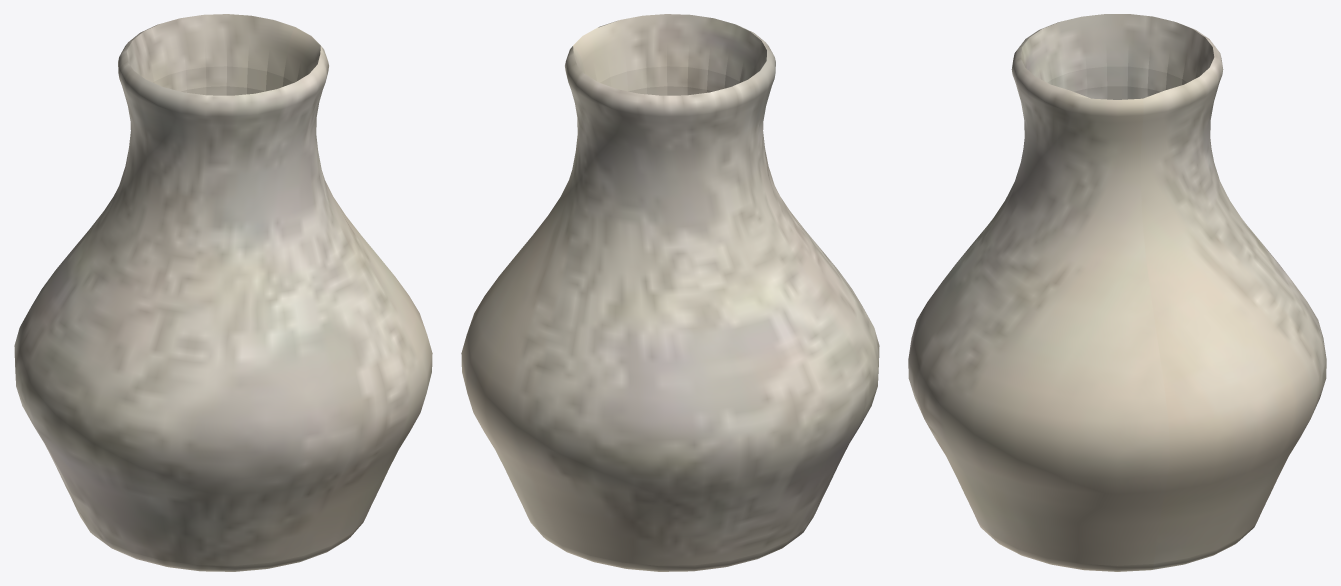
The model's file is obj_flower_vase.glb.
The picture shows the model from 3 angles, left to right: view 1: azimuth 30°, elevation 25°; view 2: azimuth 150°, elevation 25°; view 3: azimuth 270°, elevation 25°; orthographic projection.
Parts seen in each view (by area): view 1: defaultMaterial; view 2: defaultMaterial; view 3: defaultMaterial.
Boxes of the visible parts, <box> form: defaultMaterial: <box>14,14,432,571</box>; defaultMaterial: <box>461,14,879,571</box>; defaultMaterial: <box>908,14,1326,571</box>.
Size of the model in its own units: 0.2298 by 0.28 by 0.2302.
1 material, 1 textured.
